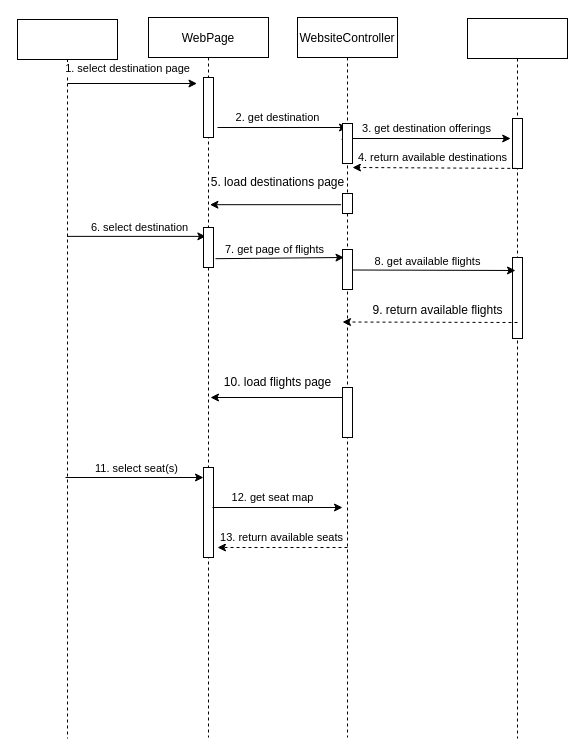
The diagram is 585 pixels wide and 756 high, and some of its shapes have lost their labels. Here are the shapes that lost their labels. From the top down, the box of each, then its label:
(16, 18, 118, 738): User
(466, 18, 568, 738): FlightDatabase
